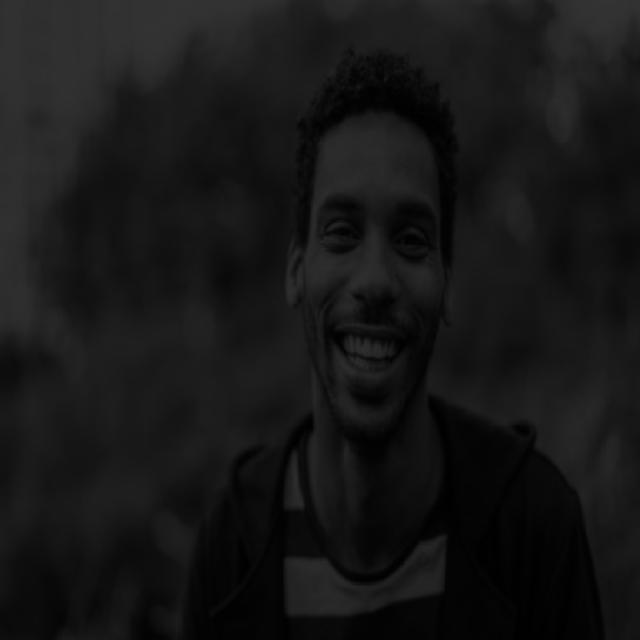Happy: (263, 119, 474, 451)
